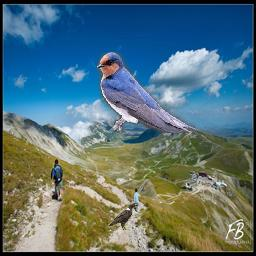Crow: (108, 202, 139, 230)
Swallow: (98, 53, 197, 134)
